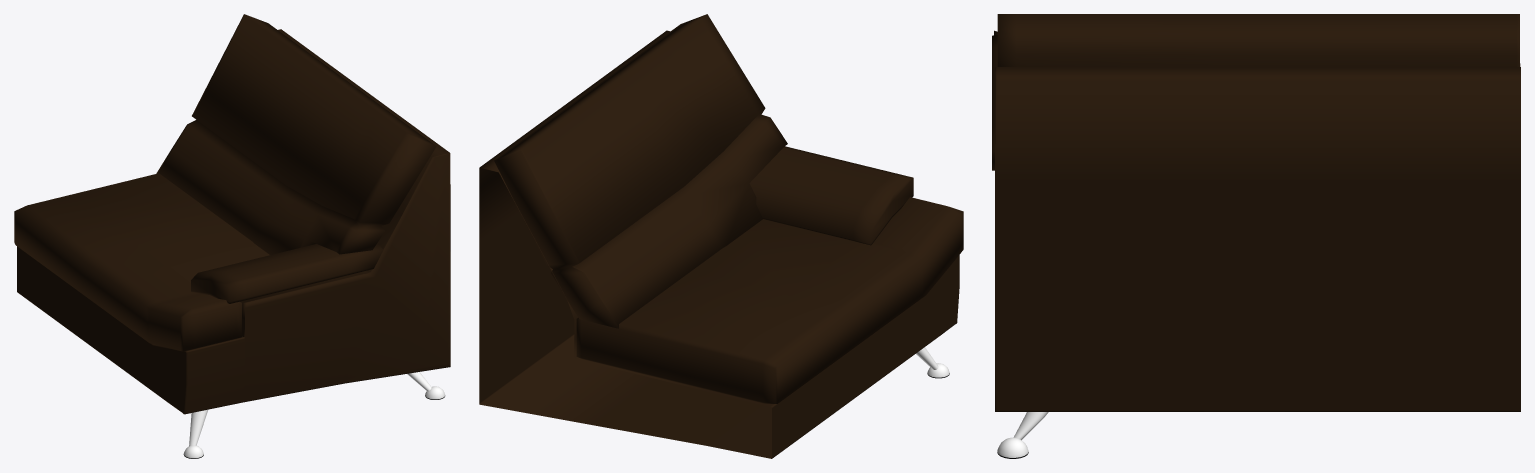
Rendered from couch.glb.
3 views of the same model, side by side, from view 1: azimuth 30°, elevation 25°; view 2: azimuth 150°, elevation 25°; view 3: azimuth 270°, elevation 25° (orthographic). The views are drawn at different scales.
Visible parts, largest first — view 1: sofa-base, espaldar sofa, sofa-cojin, sofa-brazos; view 2: espaldar sofa, sofa-cojin, sofa-base, sofa-brazos; view 3: sofa-base, espaldar sofa.
Part boxes in pixels (x1=…): sofa-base: x1=17, y1=29, x2=450, y2=458; espaldar sofa: x1=156, y1=14, x2=436, y2=254; sofa-cojin: x1=14, y1=173, x2=269, y2=351; sofa-brazos: x1=191, y1=244, x2=383, y2=303; espaldar sofa: x1=494, y1=14, x2=787, y2=328; sofa-cojin: x1=576, y1=197, x2=963, y2=403; sofa-base: x1=479, y1=30, x2=959, y2=458; sofa-brazos: x1=749, y1=146, x2=913, y2=245; sofa-base: x1=995, y1=67, x2=1520, y2=458; espaldar sofa: x1=997, y1=14, x2=1519, y2=66.
Size of what is drawn, in the model's own units: 0.911 by 0.8756 by 1.01.
